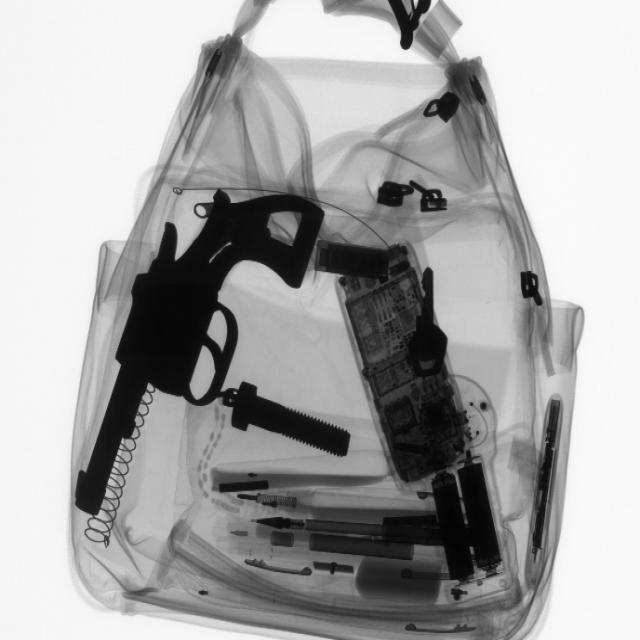GUN: (76, 181, 331, 501), (309, 1, 483, 51)
